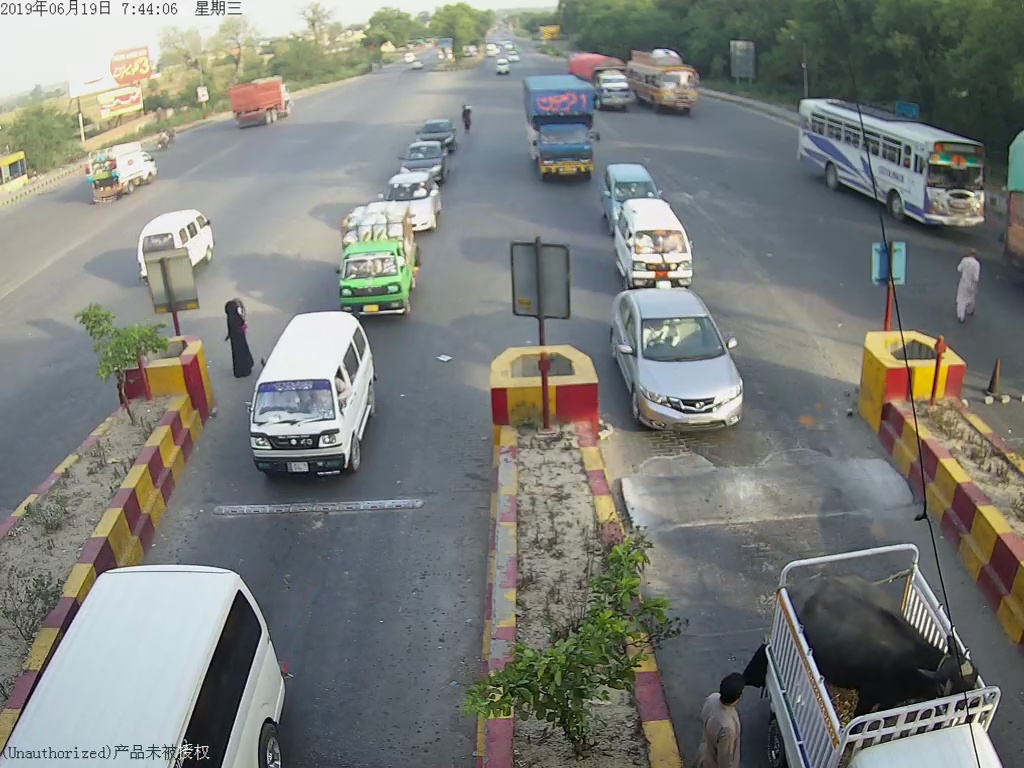Cat-1: (251, 310, 378, 473), (612, 298, 753, 434), (338, 210, 414, 312)
Cat-2: (528, 86, 594, 181)
